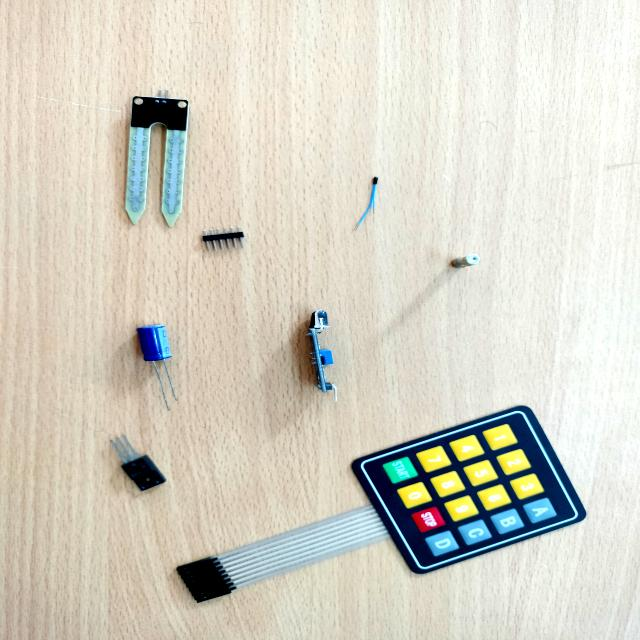capacitor: (137, 326, 170, 361)
